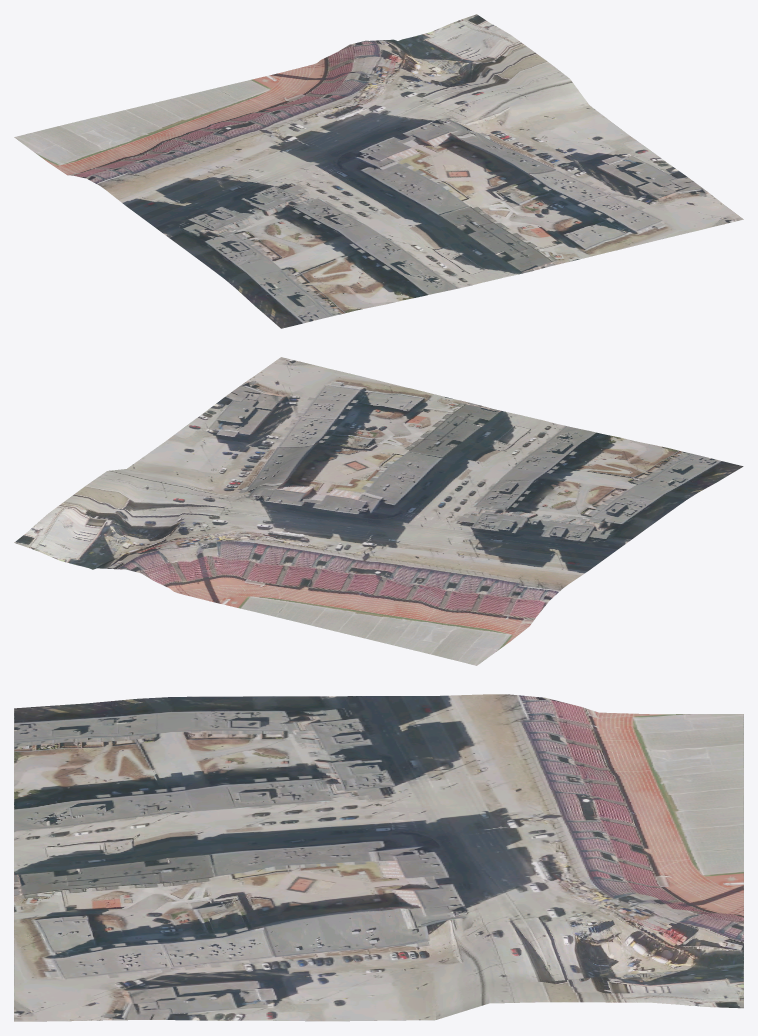
The model's file is CM_Terrain_24487387_6820204.fbx.
3 views of the same model, one above another, from view 1: azimuth 30°, elevation 25°; view 2: azimuth 150°, elevation 25°; view 3: azimuth 270°, elevation 25° (orthographic). The views are drawn at different scales.
Visible parts, largest first — view 1: CM_Terrain_24487387_6820204_LOD0; view 2: CM_Terrain_24487387_6820204_LOD0; view 3: CM_Terrain_24487387_6820204_LOD0.
Boxes of the visible parts, box(x1,y1,x2,y2) form: CM_Terrain_24487387_6820204_LOD0: box(14, 14, 743, 328); CM_Terrain_24487387_6820204_LOD0: box(14, 357, 743, 665); CM_Terrain_24487387_6820204_LOD0: box(14, 694, 743, 1021).
Size of what is drawn, in the model's own units: 205 by 7.23 by 205.
